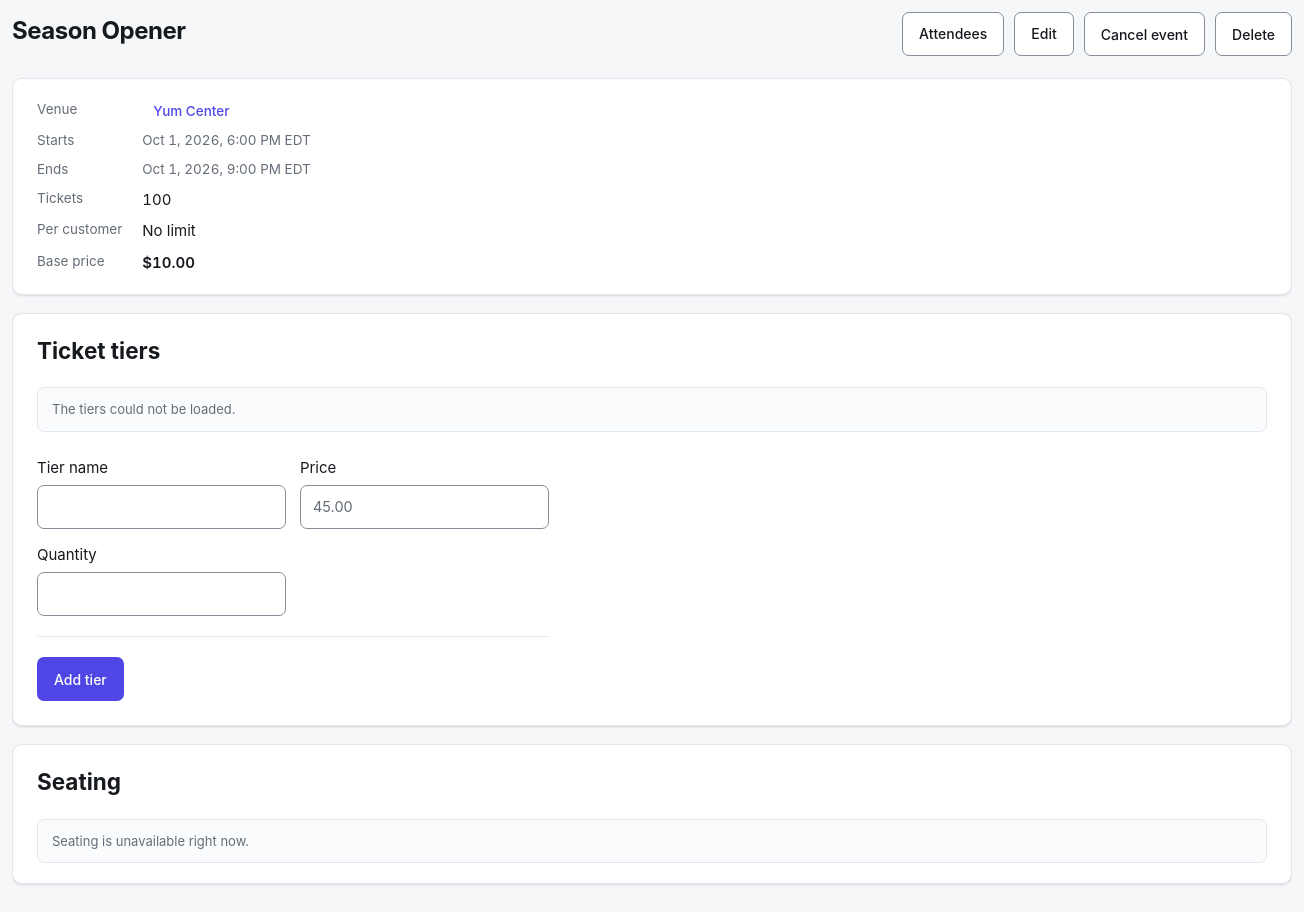
Test case: Deleting an event › when someone else deleted it first, returns to a freshly fetched list
The image size is (1304, 912).
Click the button "Delete": point(1254, 34) x1=1215 y1=12 x2=1292 y2=56
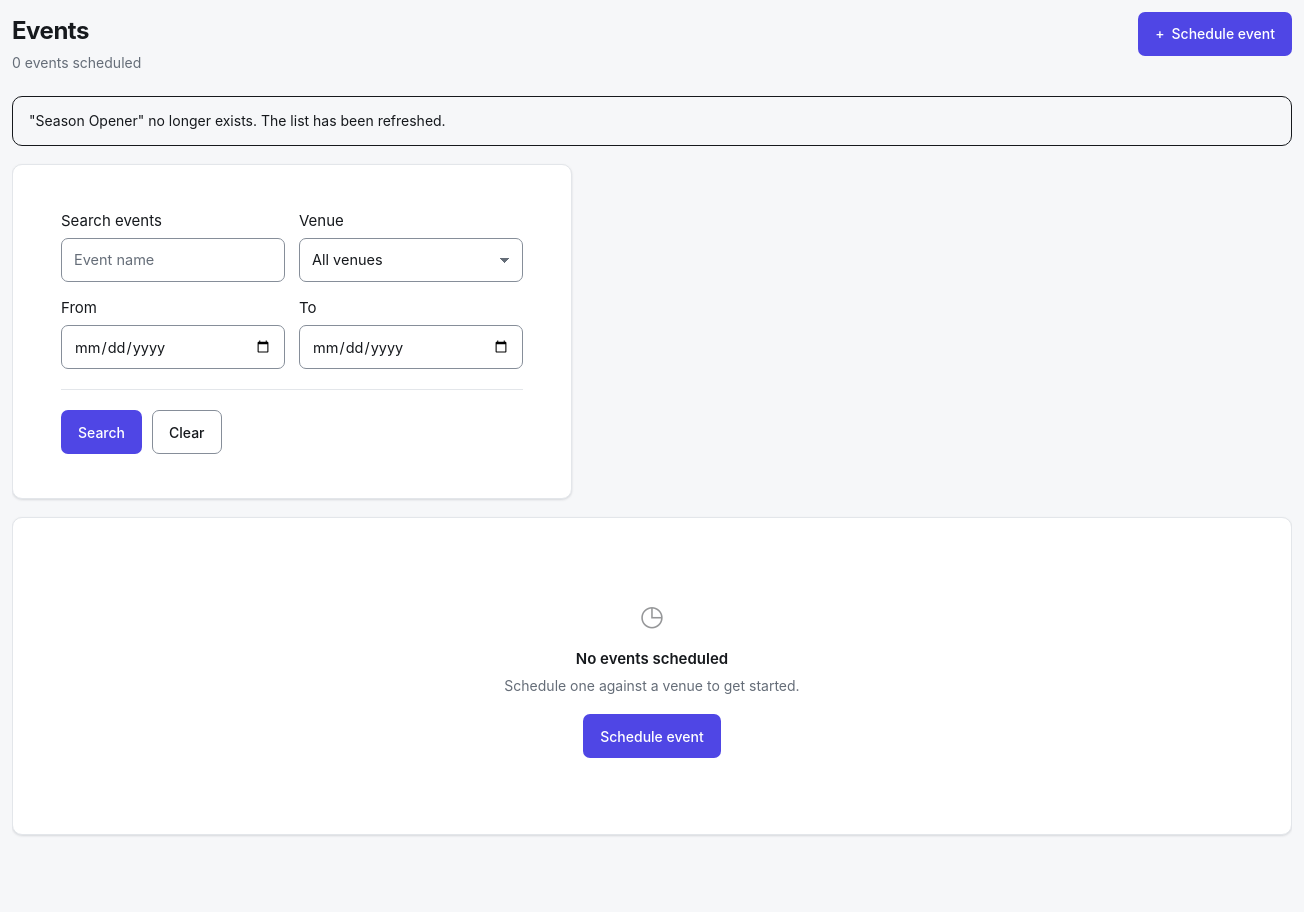
Expected: the text "\"Season Opener\" no longer exists. The list has been refreshed." is shown, x1=29 y1=110 x2=446 y2=132
